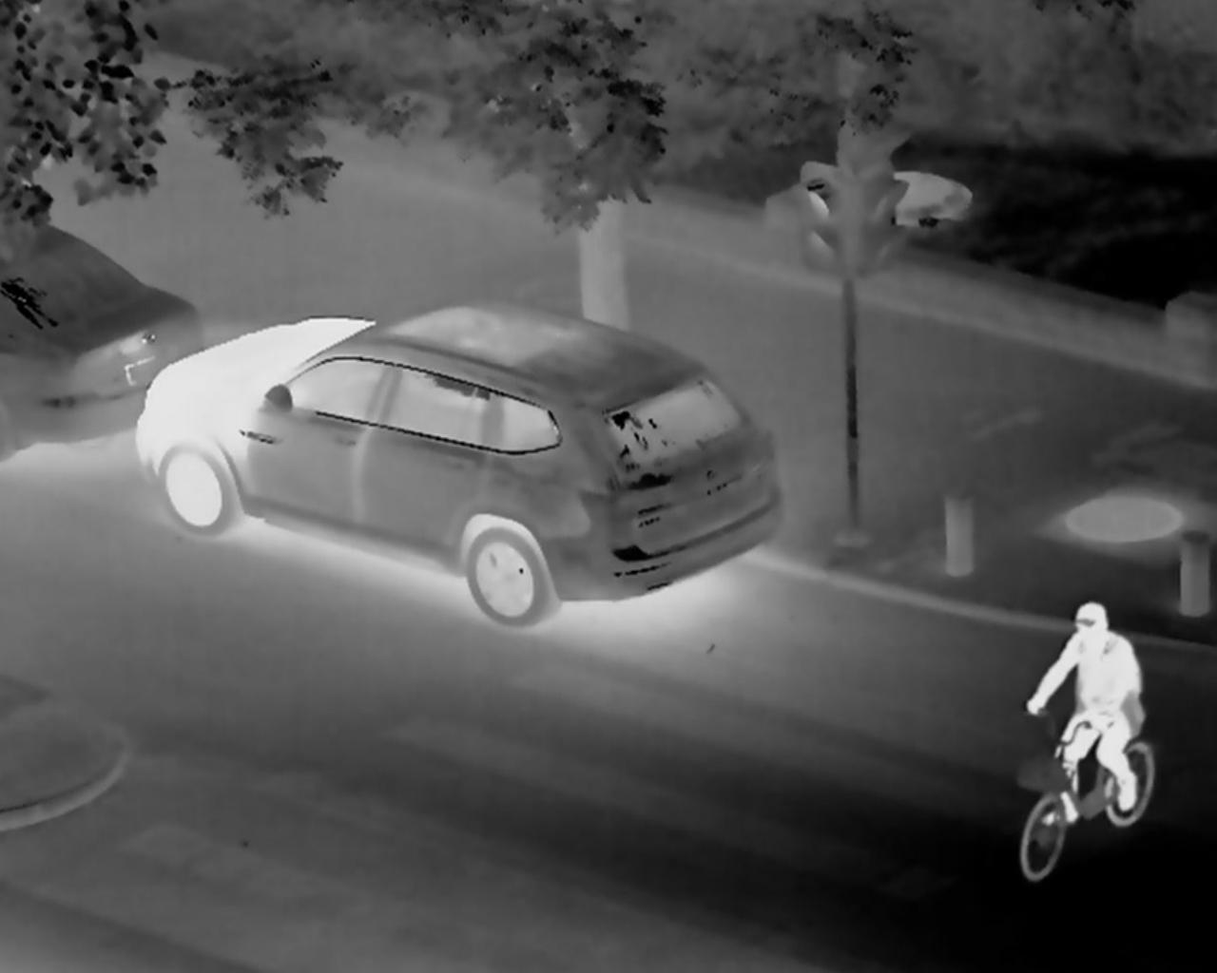person: (1039, 603, 1137, 808)
